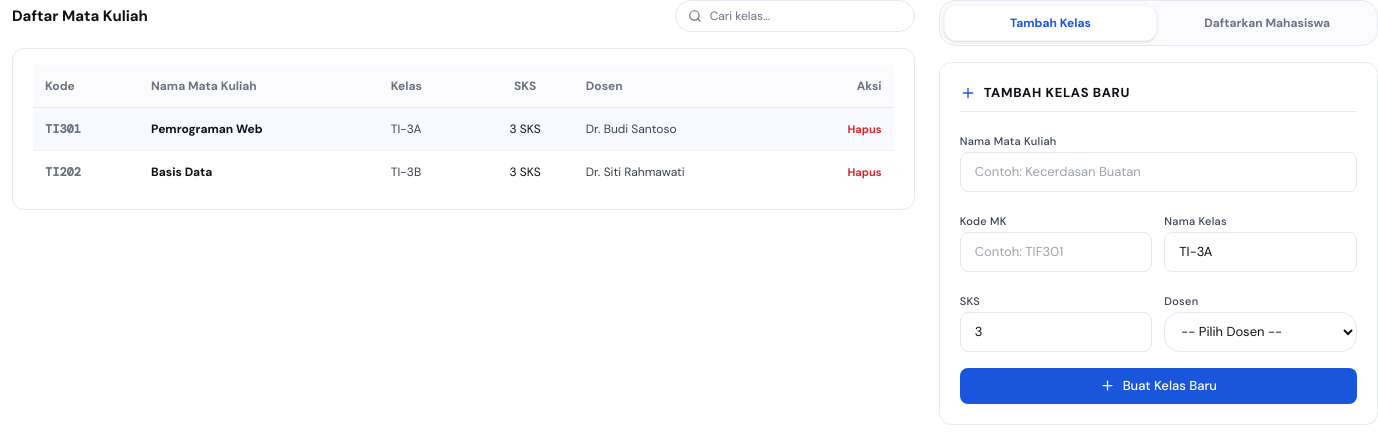
Test: CoursesTab Component › filters courses when search input is typed
The image size is (1378, 442).
Type "Web" into the field with placeholder "Cari kelas..." at point(806, 16), box [710,7,902,25]
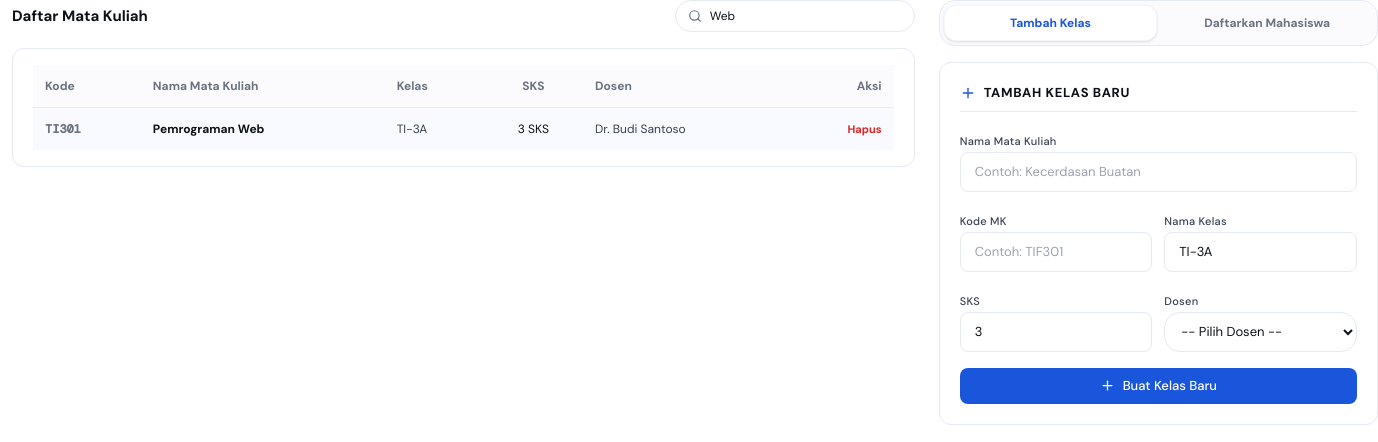
Expected: the text "Pemrograman Web" is shown, [141,108,385,150]
Expected: the text "Basis Data" is gone
